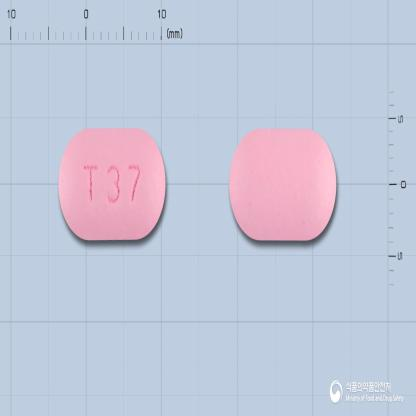pill: (56, 126, 167, 242), (228, 128, 338, 243)
